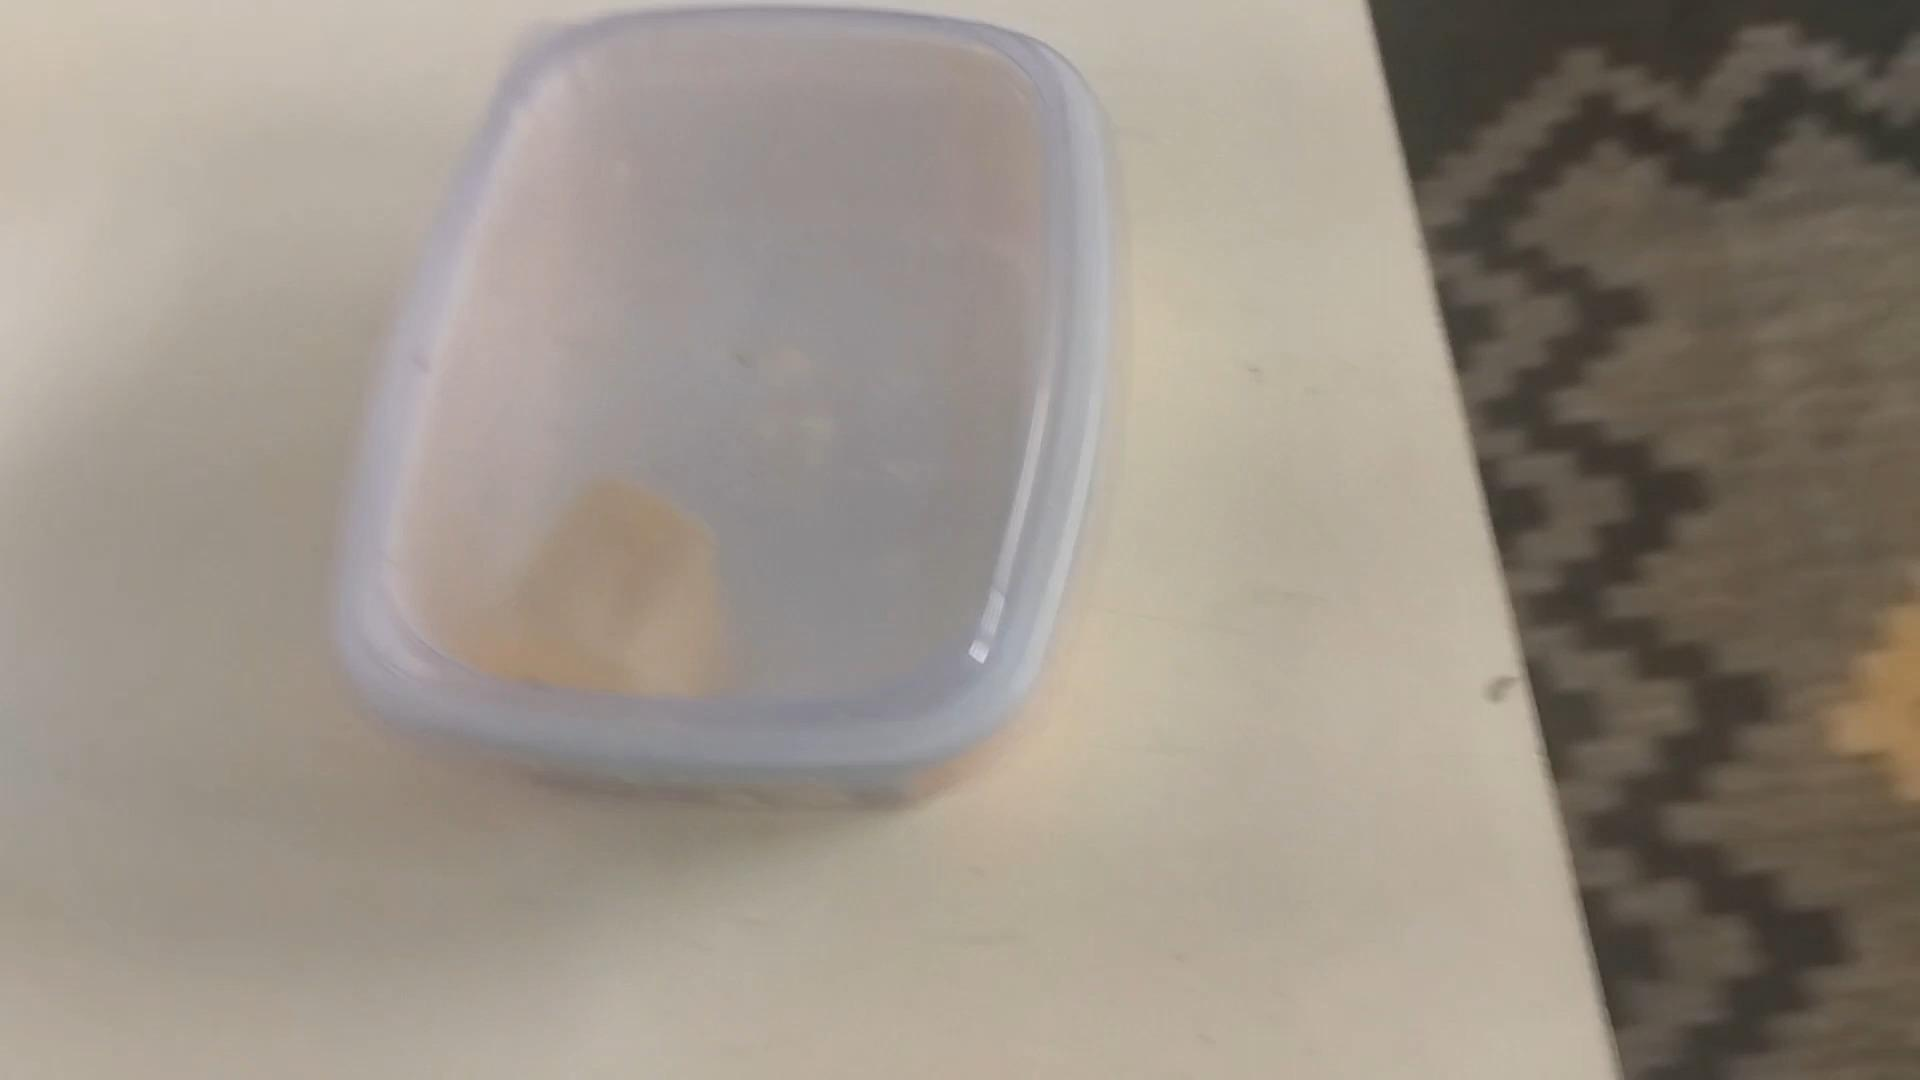butter: (336, 13, 1104, 808)
